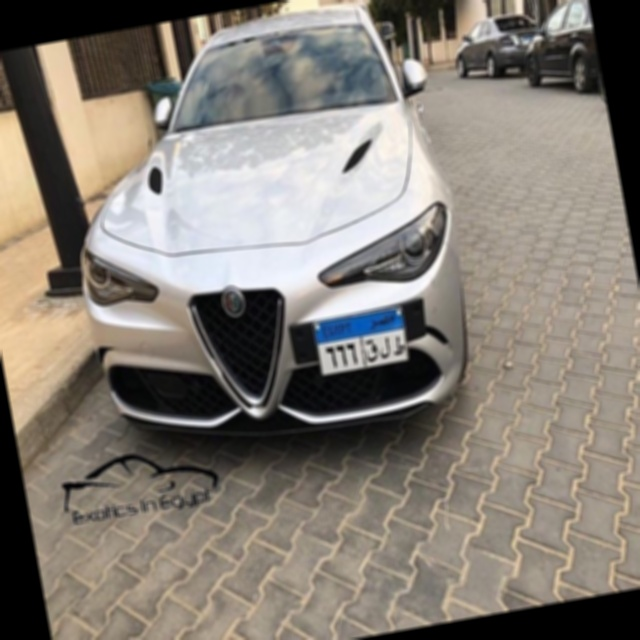License Plate: (311, 305, 412, 379)
